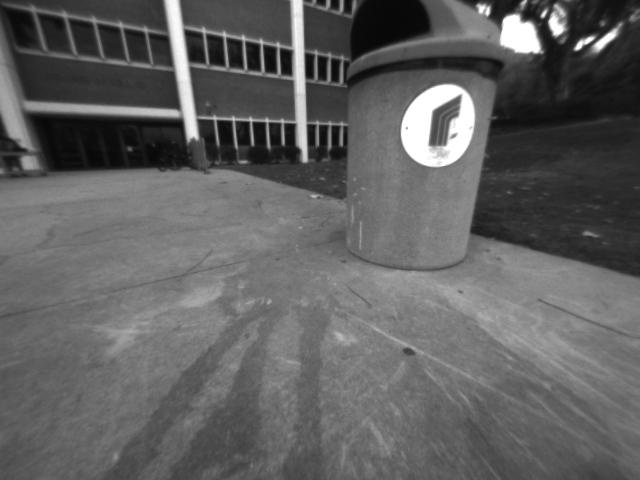trashcan: (316, 4, 505, 275)
